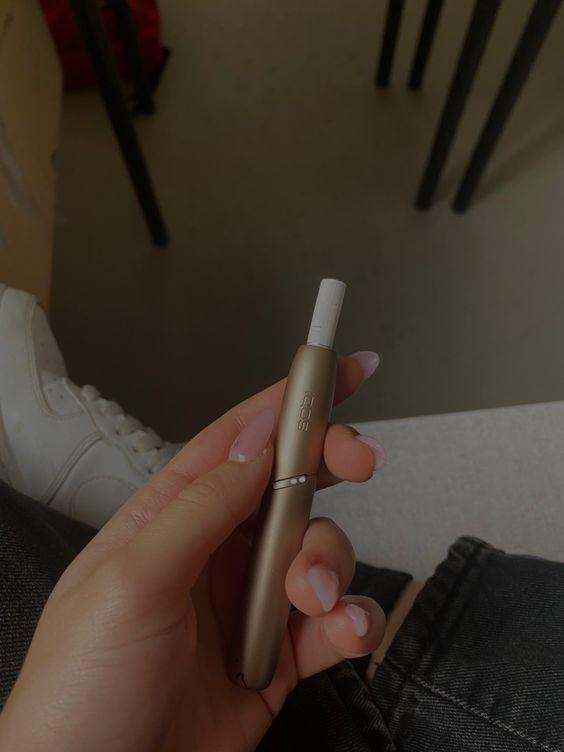iqos: (229, 277, 348, 691)
